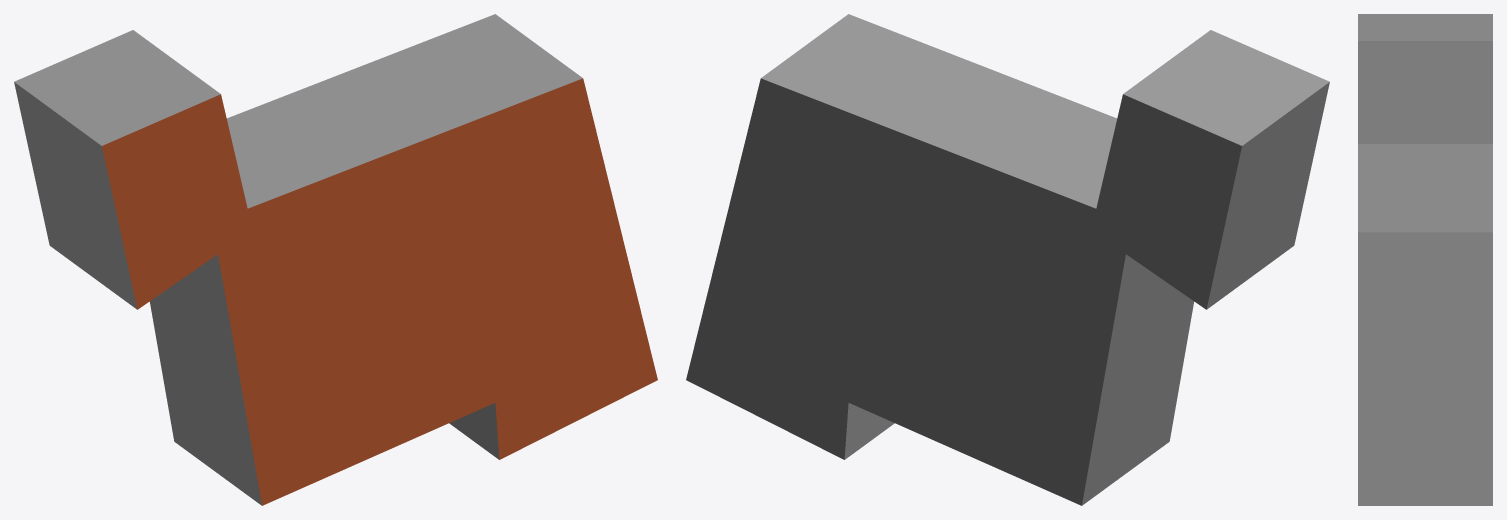
The model's file is construction_6556_assumed_A_Casa_h6m.obj.
3 views of the same model, side by side, from view 1: azimuth 30°, elevation 25°; view 2: azimuth 150°, elevation 25°; view 3: azimuth 270°, elevation 25° (orthographic). The views are drawn at different scales.
Visible parts, largest first — view 1: construction_6556_assumed_A_Casa; view 2: construction_6556_assumed_A_Casa; view 3: construction_6556_assumed_A_Casa.
Part boxes in pixels (x1,y1,x2,y2): construction_6556_assumed_A_Casa: (14, 14, 657, 505); construction_6556_assumed_A_Casa: (686, 14, 1329, 505); construction_6556_assumed_A_Casa: (1358, 14, 1492, 505).
Size of the model in its own units: 21.93 by 16.35 by 6.
